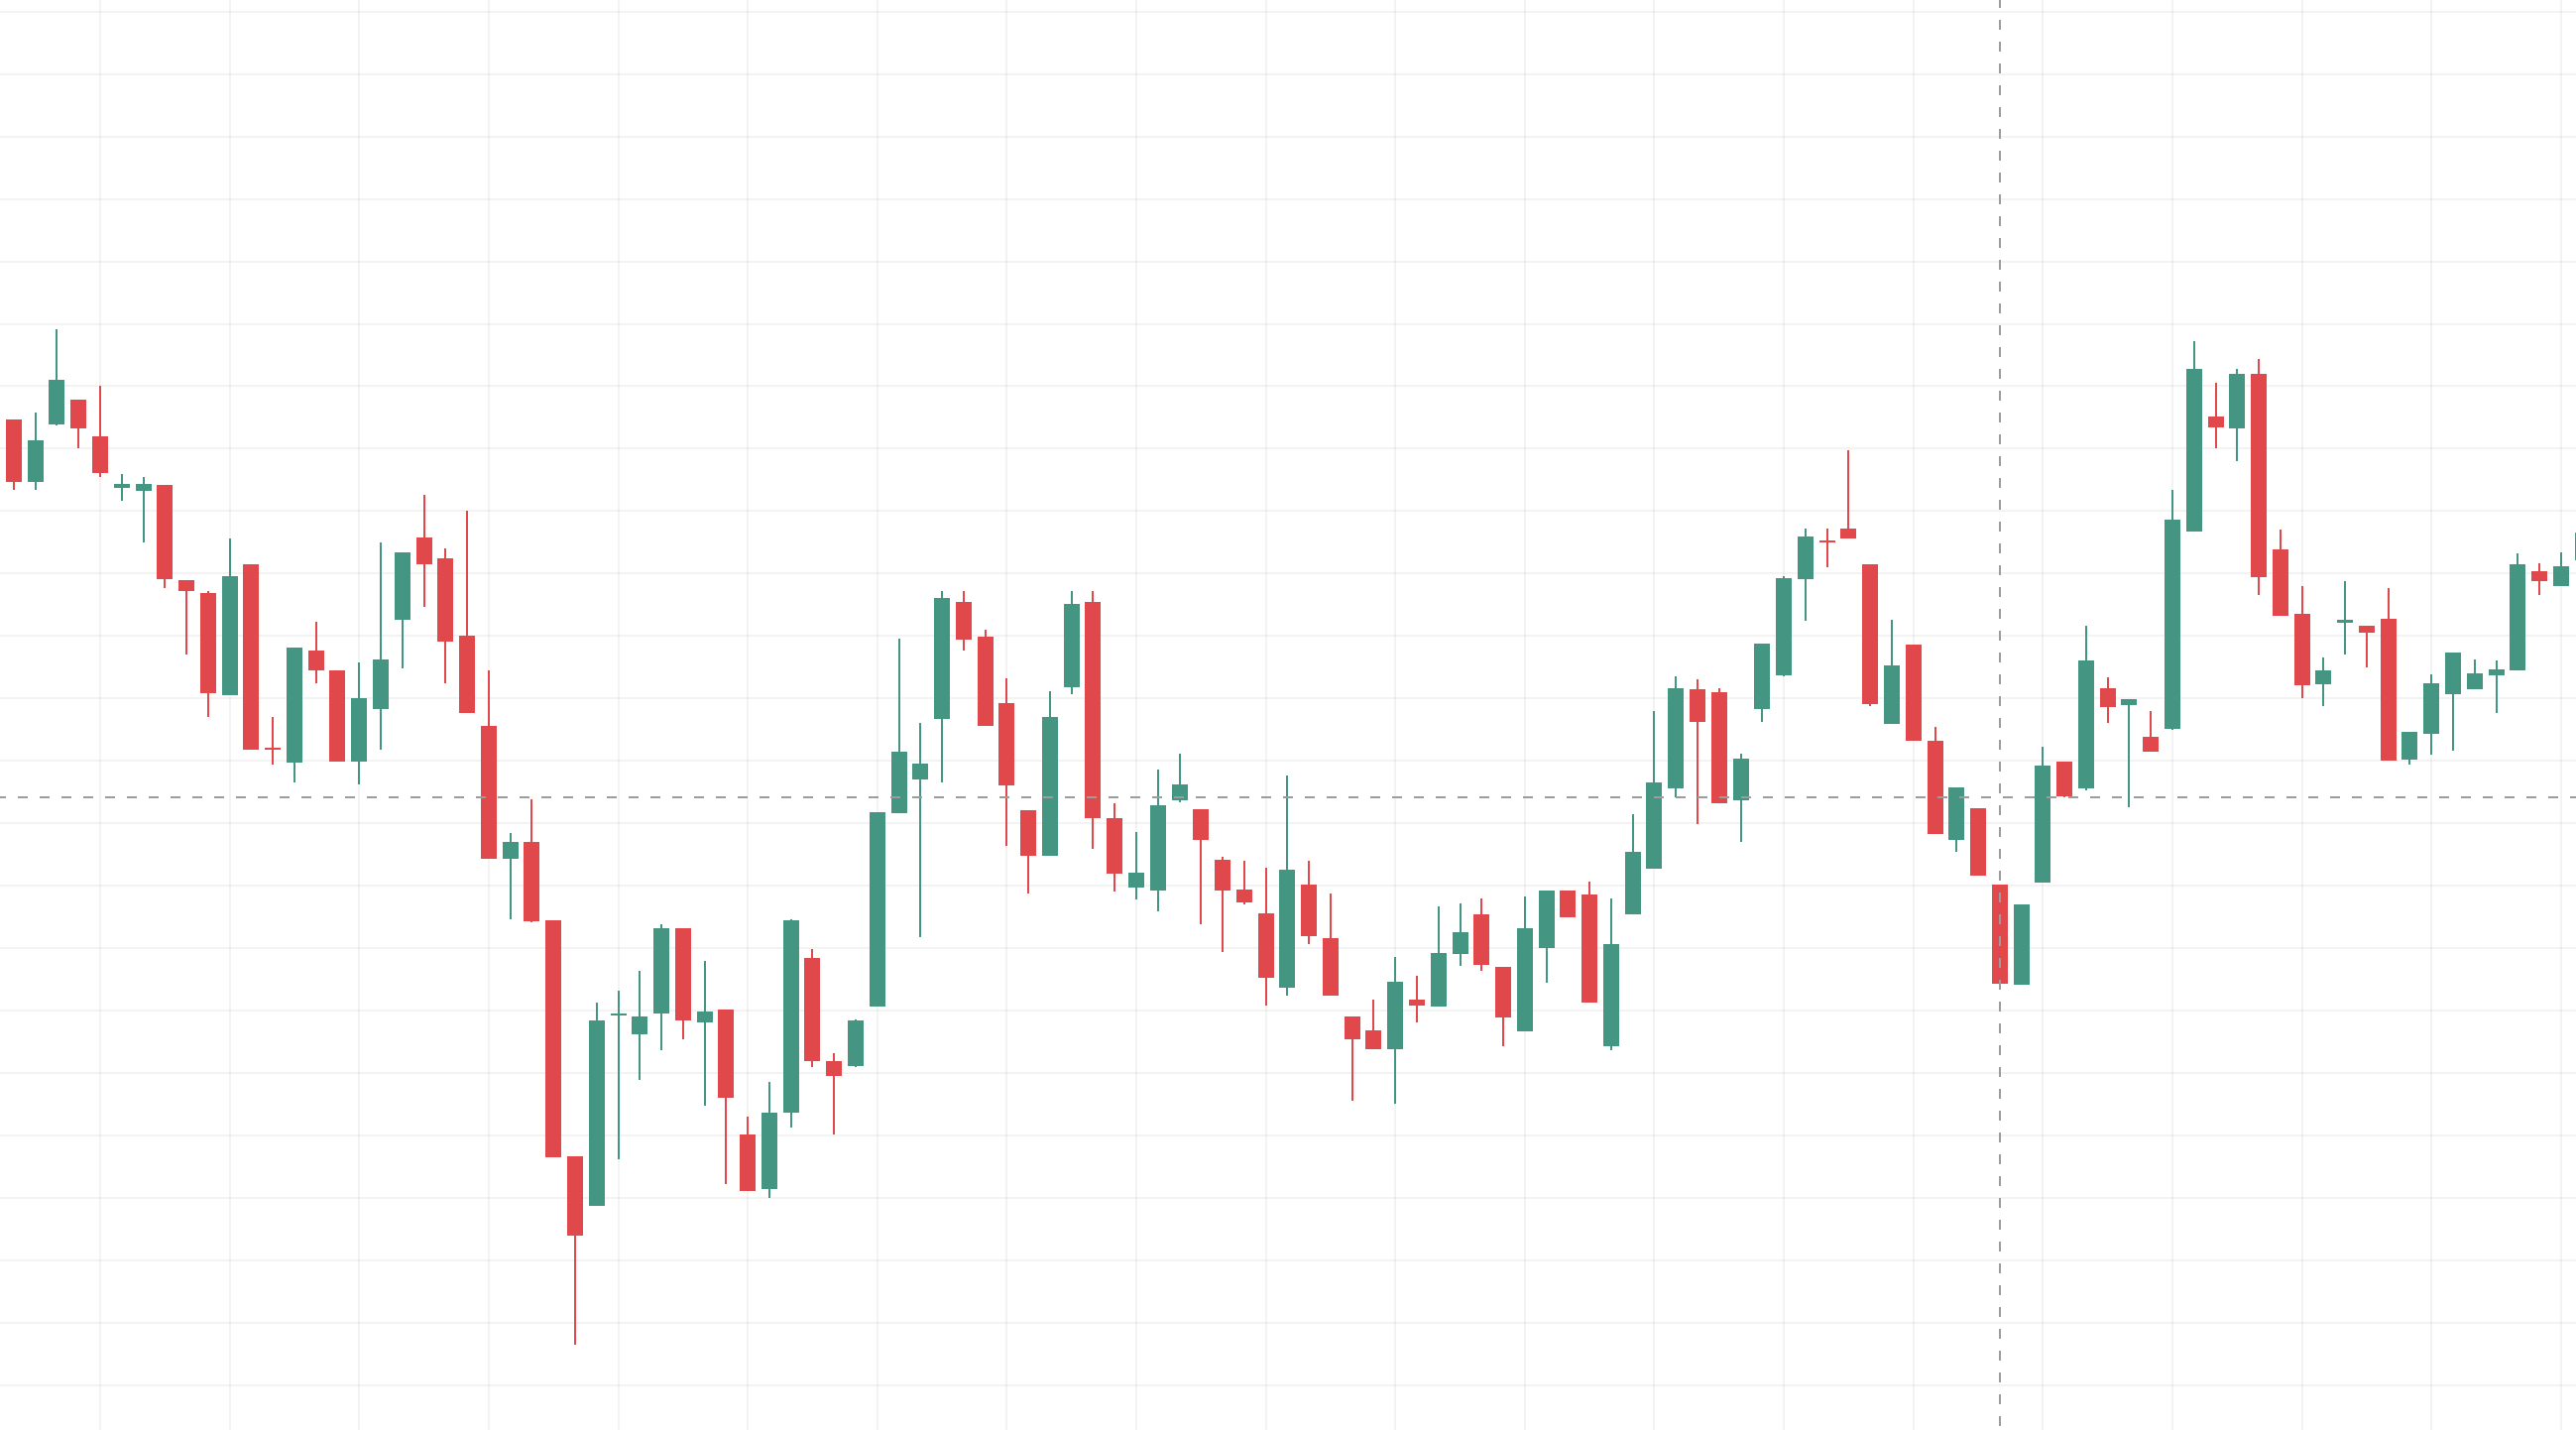V-turn: (415, 381, 672, 1384)
